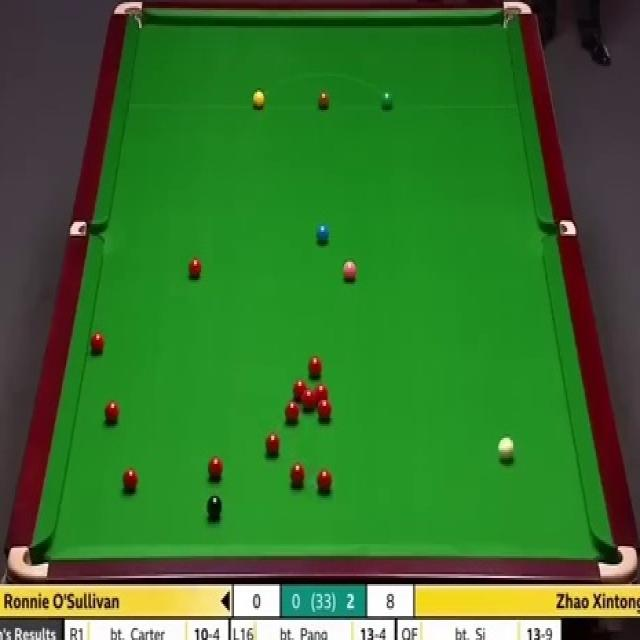black-ball: (207, 496, 223, 523)
blue-ball: (316, 222, 330, 245)
brown-ball: (318, 88, 330, 110)
green-ball: (380, 92, 393, 111)
pink-ball: (343, 260, 357, 281)
red-ball: (121, 467, 139, 494), (316, 468, 334, 494), (88, 332, 105, 358), (104, 398, 120, 425), (289, 463, 304, 489), (208, 456, 224, 480), (265, 433, 280, 458), (285, 402, 299, 427), (308, 356, 322, 380), (292, 378, 306, 402), (188, 257, 202, 278), (318, 400, 331, 421), (315, 385, 328, 405), (302, 389, 315, 408)
white-ball: (498, 437, 514, 463)
yellow-ball: (252, 90, 265, 111)
